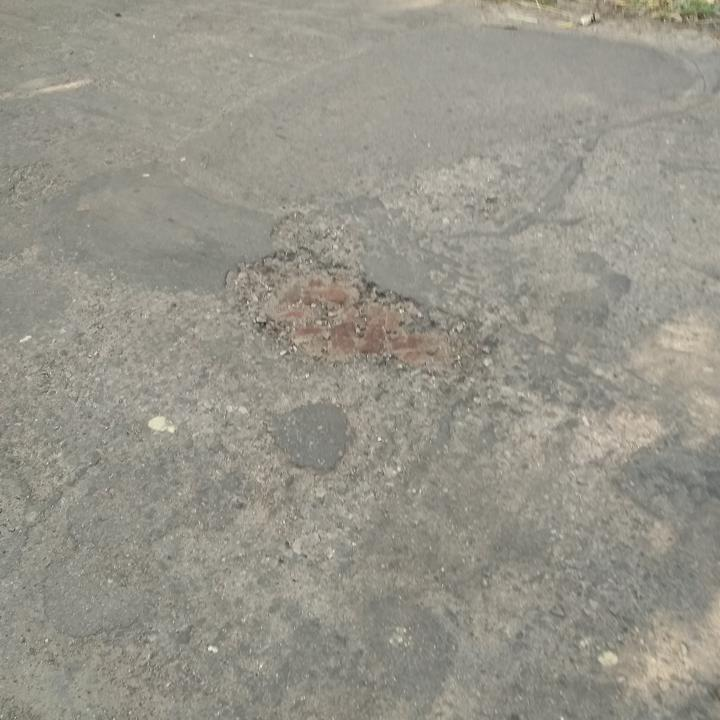pothole: (221, 246, 480, 386)
